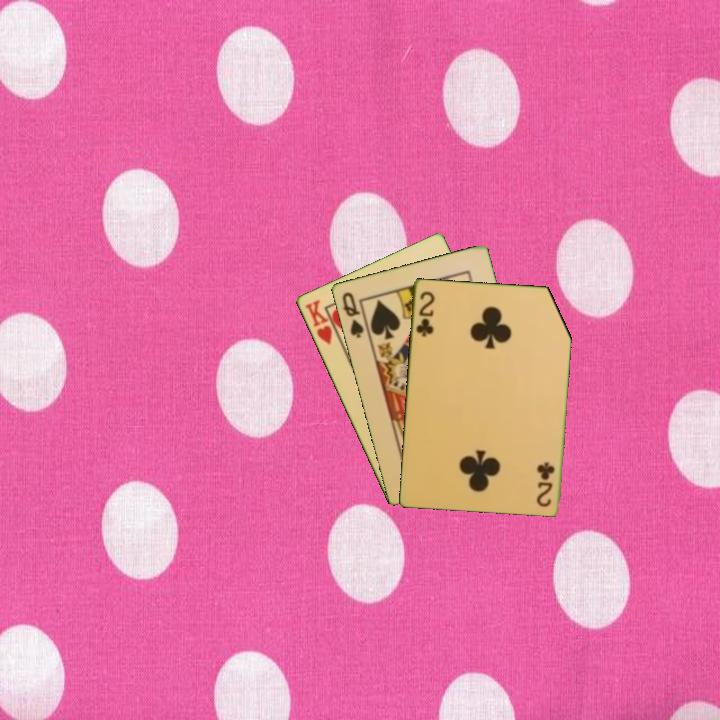2c: (412, 287, 437, 339), (534, 459, 557, 509)
Kh: (301, 296, 343, 348)
Qs: (338, 288, 366, 341)
